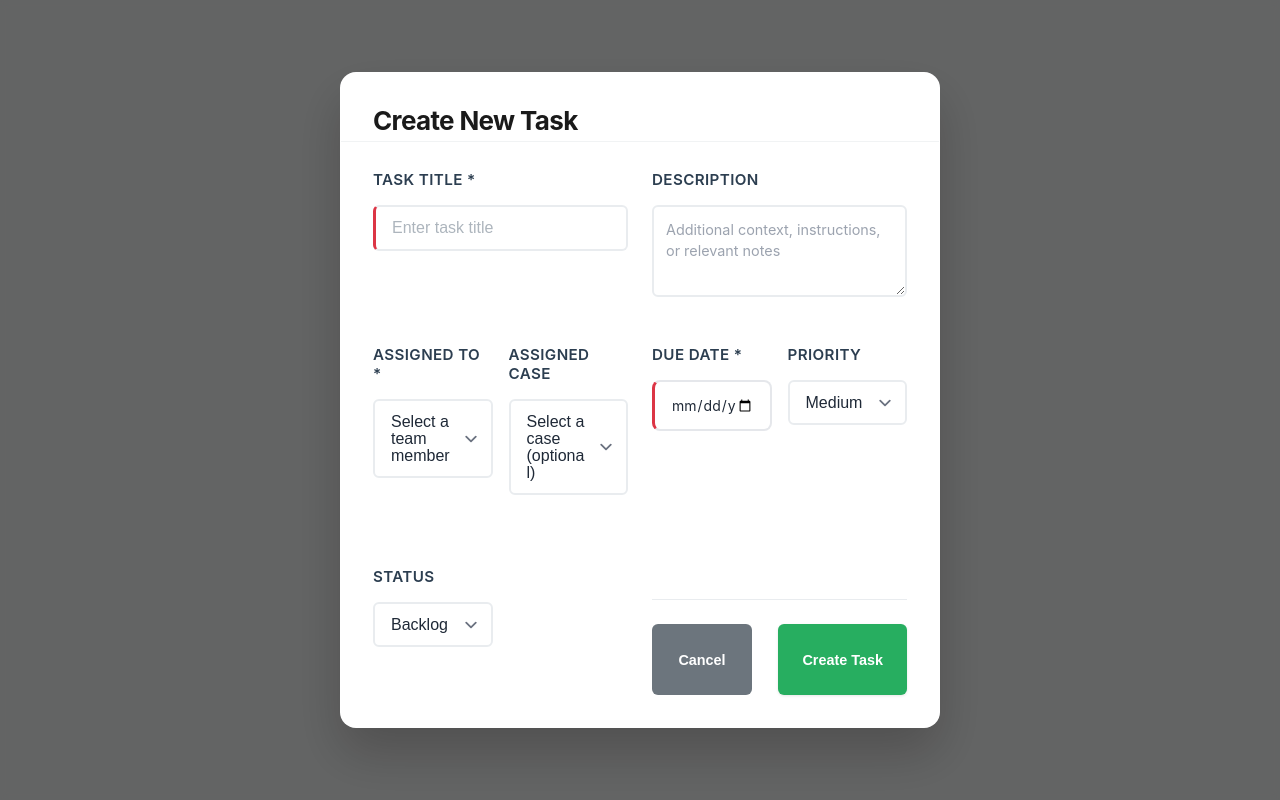
it: Task Management Workflow Integration › Error Handling and Validation › handles API errors gracefully
expect the heading "Create New Task" is shown: met, box x1=373 y1=105 x2=578 y2=136
// Fill out form completely to avoid validation errors
In the field labelled "Task Title *": coordinates (500, 228) x1=373 y1=205 x2=628 y2=251, type "Error Test Task"
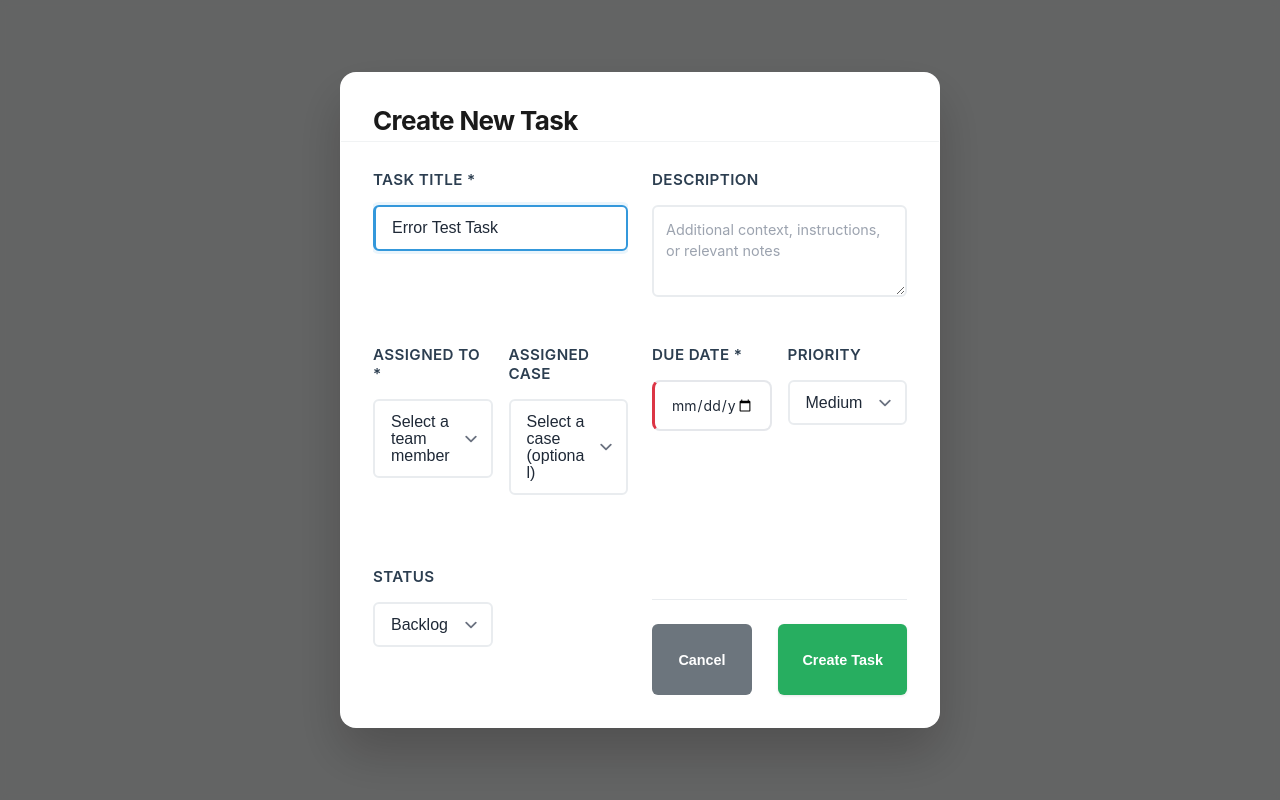
Select "John Doe ()" in the dropdown labelled "Assigned To *": coordinates (433, 439) x1=373 y1=399 x2=492 y2=478
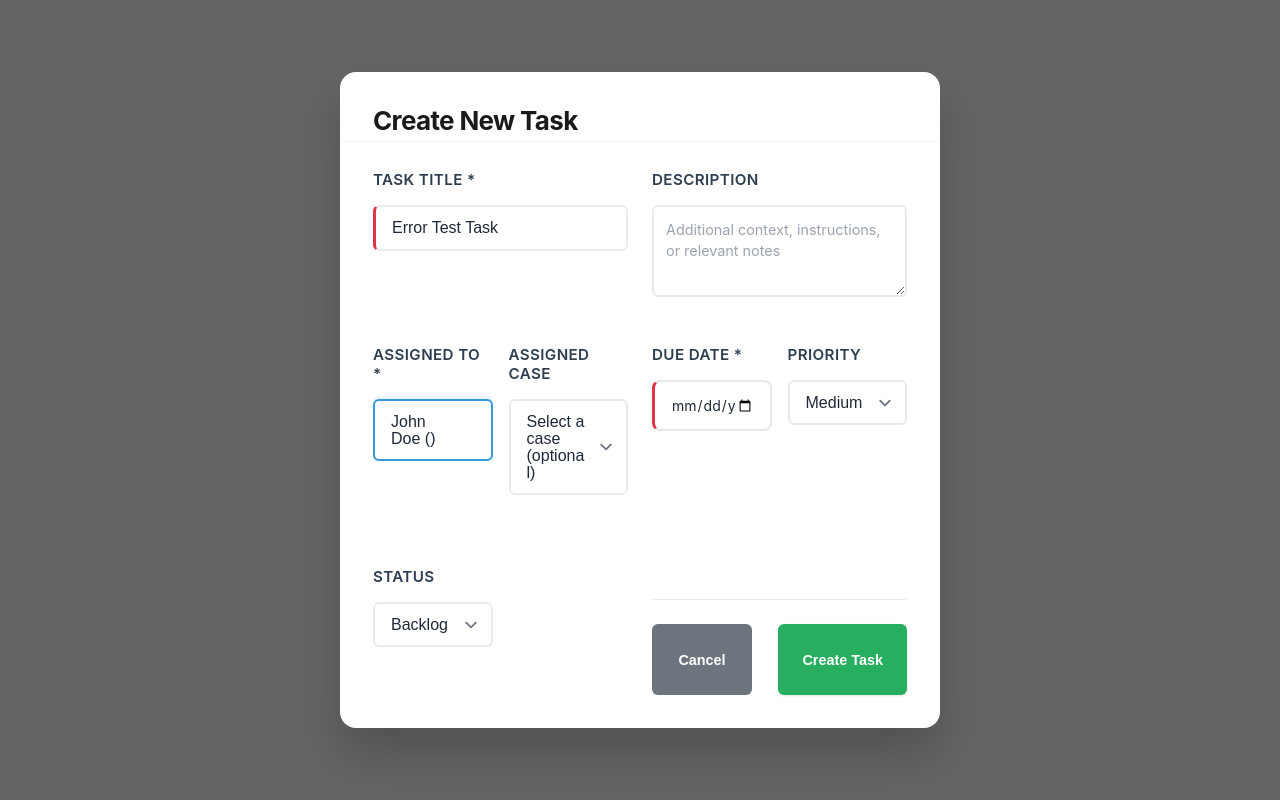
In the field labelled "Due Date *": coordinates (712, 406) x1=652 y1=380 x2=772 y2=431, type "2024-12-31T00:00"
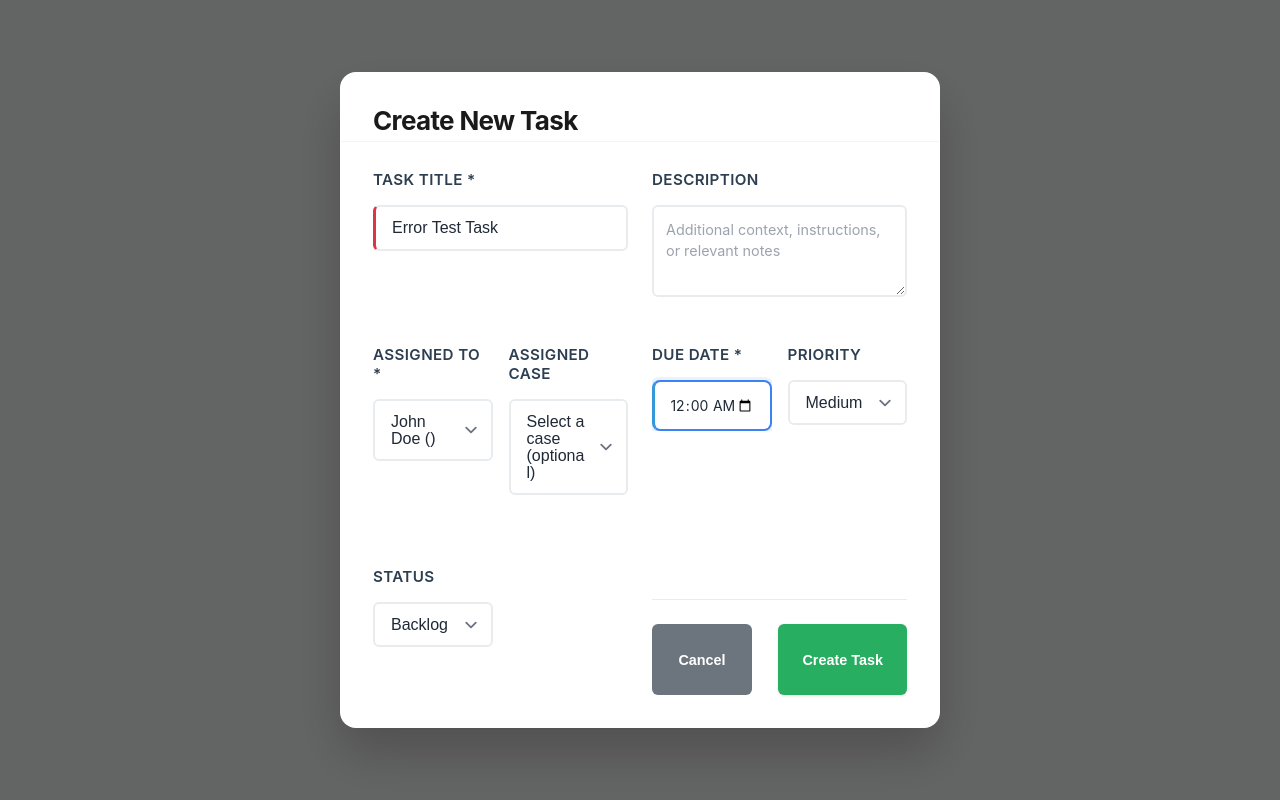
// Submit form
Click the button "Create Task": coordinates (843, 660) x1=778 y1=624 x2=907 y2=695
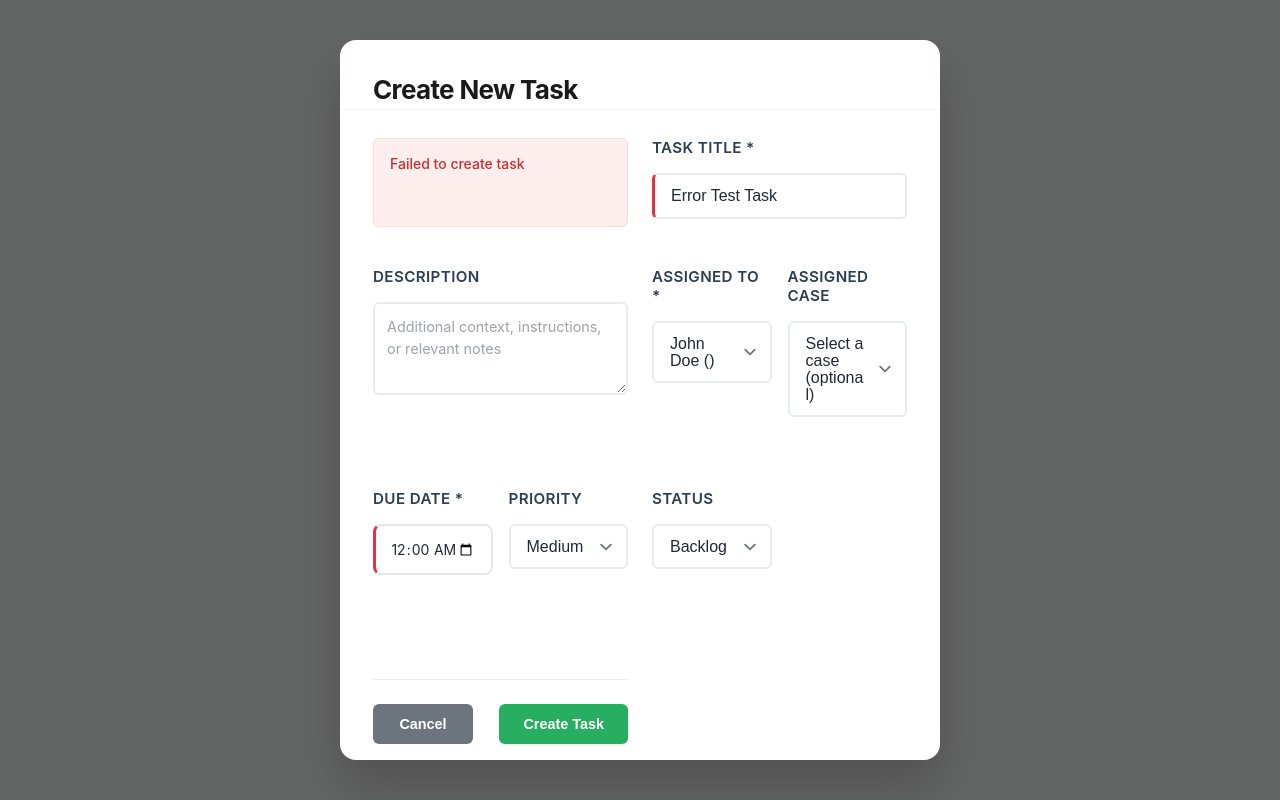
expect the text "Failed to create task" is shown: met, box x1=373 y1=138 x2=628 y2=227
